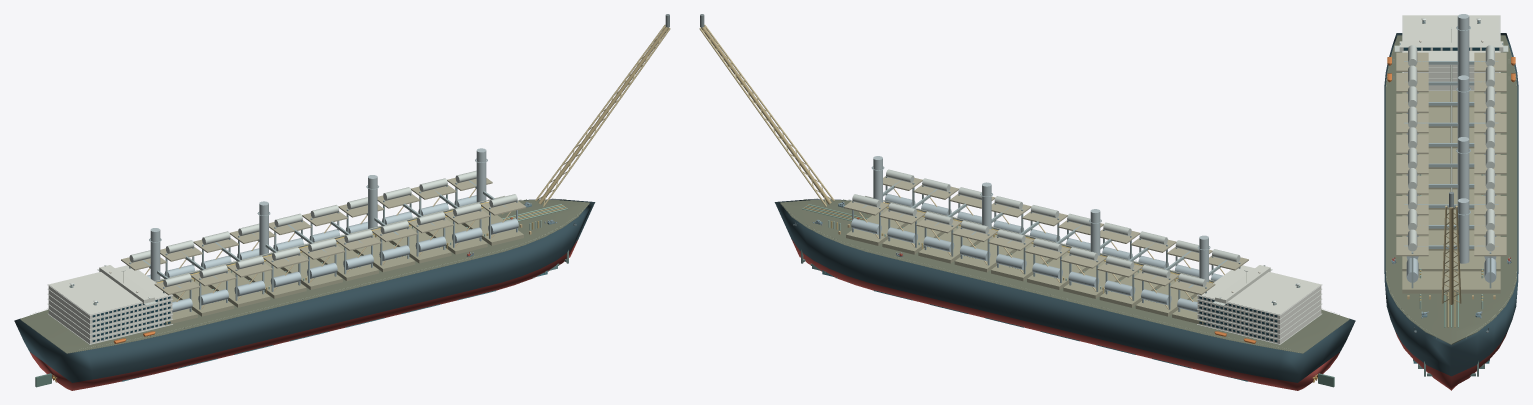
File: one-guyana.lod0.glb
3 renders of one model, left to right at view 1: azimuth 30°, elevation 25°; view 2: azimuth 150°, elevation 25°; view 3: azimuth 270°, elevation 25°, orthographic. The views are drawn at different scales.
Visible parts, largest first — view 1: one-guyana.structure.hull.outer-hull-shell.1, one-guyana.structure.decks.main-strength-deck.1, one-guyana.structure.hull.antifouling-underwater-shell.1, one-guyana.accommodation.superstructure.deck-6-enclosure.1, one-guyana.cargo.flare.flare-boom.1, one-guyana.cargo.topside-processing.process-module-6.1, one-guyana.cargo.topside-processing.process-module-4.1, one-guyana.cargo.topside-processing.process-module-2.1, one-guyana.cargo.topside-processing.process-module-3.1, one-guyana.cargo.topside-processing.process-module-8.1, one-guyana.cargo.topside-processing.process-module-7.1, one-guyana.cargo.topside-processing.process-module-5.1 (+5 smaller); view 2: one-guyana.structure.hull.outer-hull-shell.1, one-guyana.structure.decks.main-strength-deck.1, one-guyana.structure.hull.antifouling-underwater-shell.1, one-guyana.accommodation.superstructure.deck-6-enclosure.1, one-guyana.cargo.flare.flare-boom.1, one-guyana.cargo.topside-processing.process-module-6.1, one-guyana.cargo.topside-processing.process-module-4.1, one-guyana.cargo.topside-processing.process-module-2.1, one-guyana.cargo.topside-processing.process-module-3.1, one-guyana.cargo.topside-processing.process-module-8.1, one-guyana.cargo.topside-processing.process-module-7.1, one-guyana.cargo.topside-processing.process-module-5.1 (+3 smaller); view 3: one-guyana.structure.decks.main-strength-deck.1, one-guyana.structure.hull.outer-hull-shell.1, one-guyana.accommodation.superstructure.deck-6-enclosure.1, one-guyana.cargo.topside-processing.process-module-10.1, one-guyana.cargo.topside-processing.process-module-9.1, one-guyana.cargo.topside-steelwork.process-service-deck-10-1 (×2), one-guyana.cargo.topside-steelwork.process-service-deck-2-1. (×2), one-guyana.cargo.topside-steelwork.process-service-deck-4-1. (×2), one-guyana.cargo.topside-steelwork.process-service-deck-3-1. (×2), one-guyana.cargo.topside-steelwork.process-service-deck-5-1. (×2), one-guyana.cargo.topside-steelwork.process-service-deck-6-1. (×2), one-guyana.cargo.topside-steelwork.process-service-deck-7-1. (×2) (+54 smaller).
Boxes of the visible parts, x1,y1,x2,y2 form: one-guyana.structure.hull.outer-hull-shell.1: (14, 199, 595, 382); one-guyana.structure.decks.main-strength-deck.1: (20, 200, 589, 353); one-guyana.structure.hull.antifouling-underwater-shell.1: (30, 239, 578, 390); one-guyana.accommodation.superstructure.deck-6-enclosure.1: (48, 265, 172, 318); one-guyana.cargo.flare.flare-boom.1: (538, 26, 668, 204); one-guyana.cargo.topside-processing.process-module-6.1: (317, 242, 378, 281); one-guyana.cargo.topside-processing.process-module-4.1: (244, 259, 306, 298); one-guyana.cargo.topside-processing.process-module-2.1: (172, 277, 234, 316); one-guyana.cargo.topside-processing.process-module-3.1: (208, 268, 270, 307); one-guyana.cargo.topside-processing.process-module-8.1: (389, 224, 451, 263); one-guyana.cargo.topside-processing.process-module-7.1: (353, 233, 415, 272); one-guyana.cargo.topside-processing.process-module-5.1: (280, 250, 342, 289); one-guyana.structure.hull.outer-hull-shell.1: (774, 199, 1355, 382); one-guyana.structure.decks.main-strength-deck.1: (780, 200, 1349, 353); one-guyana.structure.hull.antifouling-underwater-shell.1: (791, 239, 1339, 390); one-guyana.accommodation.superstructure.deck-6-enclosure.1: (1197, 265, 1321, 318); one-guyana.cargo.flare.flare-boom.1: (701, 26, 831, 204); one-guyana.cargo.topside-processing.process-module-6.1: (991, 242, 1052, 281); one-guyana.cargo.topside-processing.process-module-4.1: (1063, 259, 1125, 298); one-guyana.cargo.topside-processing.process-module-2.1: (1135, 277, 1197, 316); one-guyana.cargo.topside-processing.process-module-3.1: (1099, 268, 1161, 307); one-guyana.cargo.topside-processing.process-module-8.1: (918, 224, 980, 263); one-guyana.cargo.topside-processing.process-module-7.1: (954, 233, 1016, 272); one-guyana.cargo.topside-processing.process-module-5.1: (1027, 250, 1089, 289); one-guyana.structure.decks.main-strength-deck.1: (1385, 35, 1517, 344); one-guyana.structure.hull.outer-hull-shell.1: (1384, 33, 1518, 376); one-guyana.accommodation.superstructure.deck-6-enclosure.1: (1403, 15, 1499, 66); one-guyana.cargo.topside-processing.process-module-10.1: (1402, 271, 1500, 293); one-guyana.cargo.topside-processing.process-module-9.1: (1402, 250, 1500, 271); one-guyana.cargo.topside-steelwork.process-service-deck-10-1 (×2): (1396, 237, 1506, 256); one-guyana.cargo.topside-steelwork.process-service-deck-2-1. (×2): (1396, 73, 1506, 92); one-guyana.cargo.topside-steelwork.process-service-deck-4-1. (×2): (1396, 114, 1506, 133); one-guyana.cargo.topside-steelwork.process-service-deck-3-1. (×2): (1396, 93, 1506, 112); one-guyana.cargo.topside-steelwork.process-service-deck-5-1. (×2): (1396, 134, 1506, 153); one-guyana.cargo.topside-steelwork.process-service-deck-6-1. (×2): (1396, 155, 1506, 174); one-guyana.cargo.topside-steelwork.process-service-deck-7-1. (×2): (1396, 175, 1506, 194).
Bounding box in the file's own units: 379 × 125 × 60.
